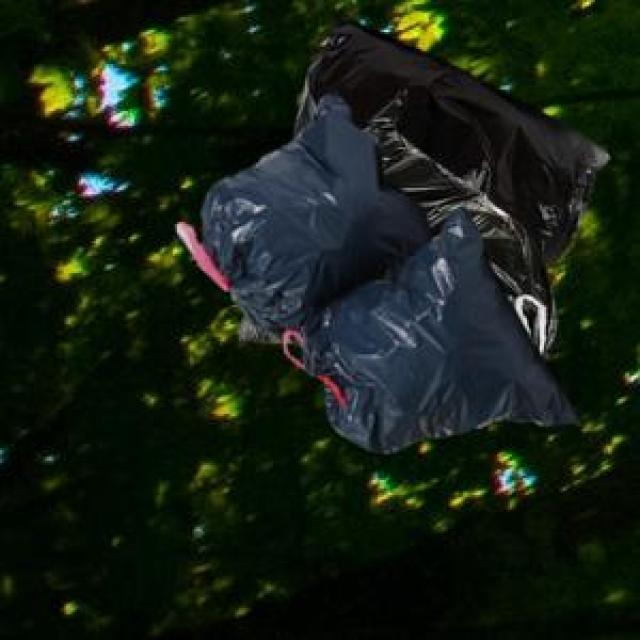waste: (178, 26, 608, 453)
